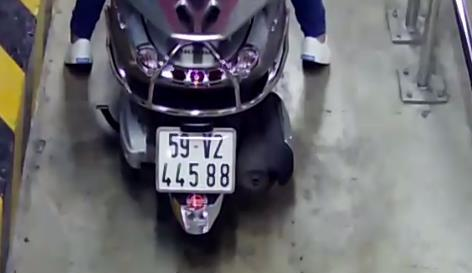lisence: (156, 126, 235, 193)
